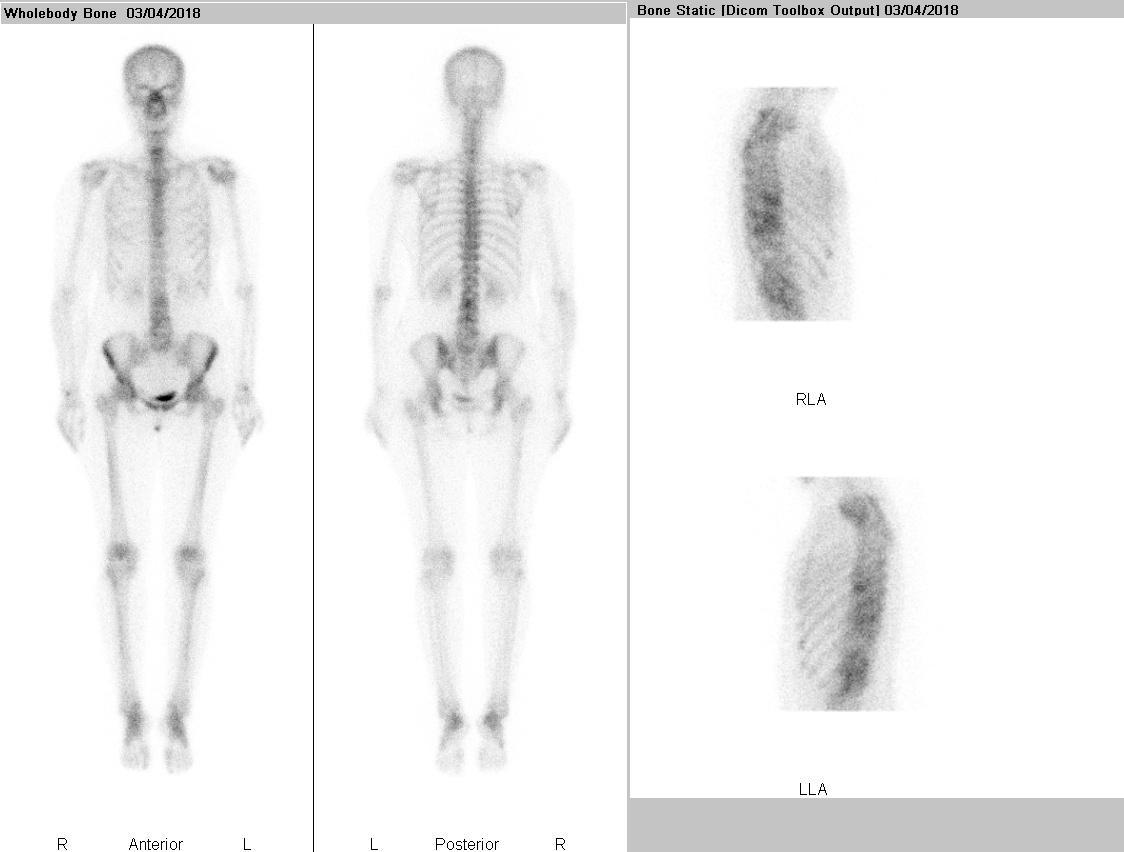person: (3, 23, 626, 852)
